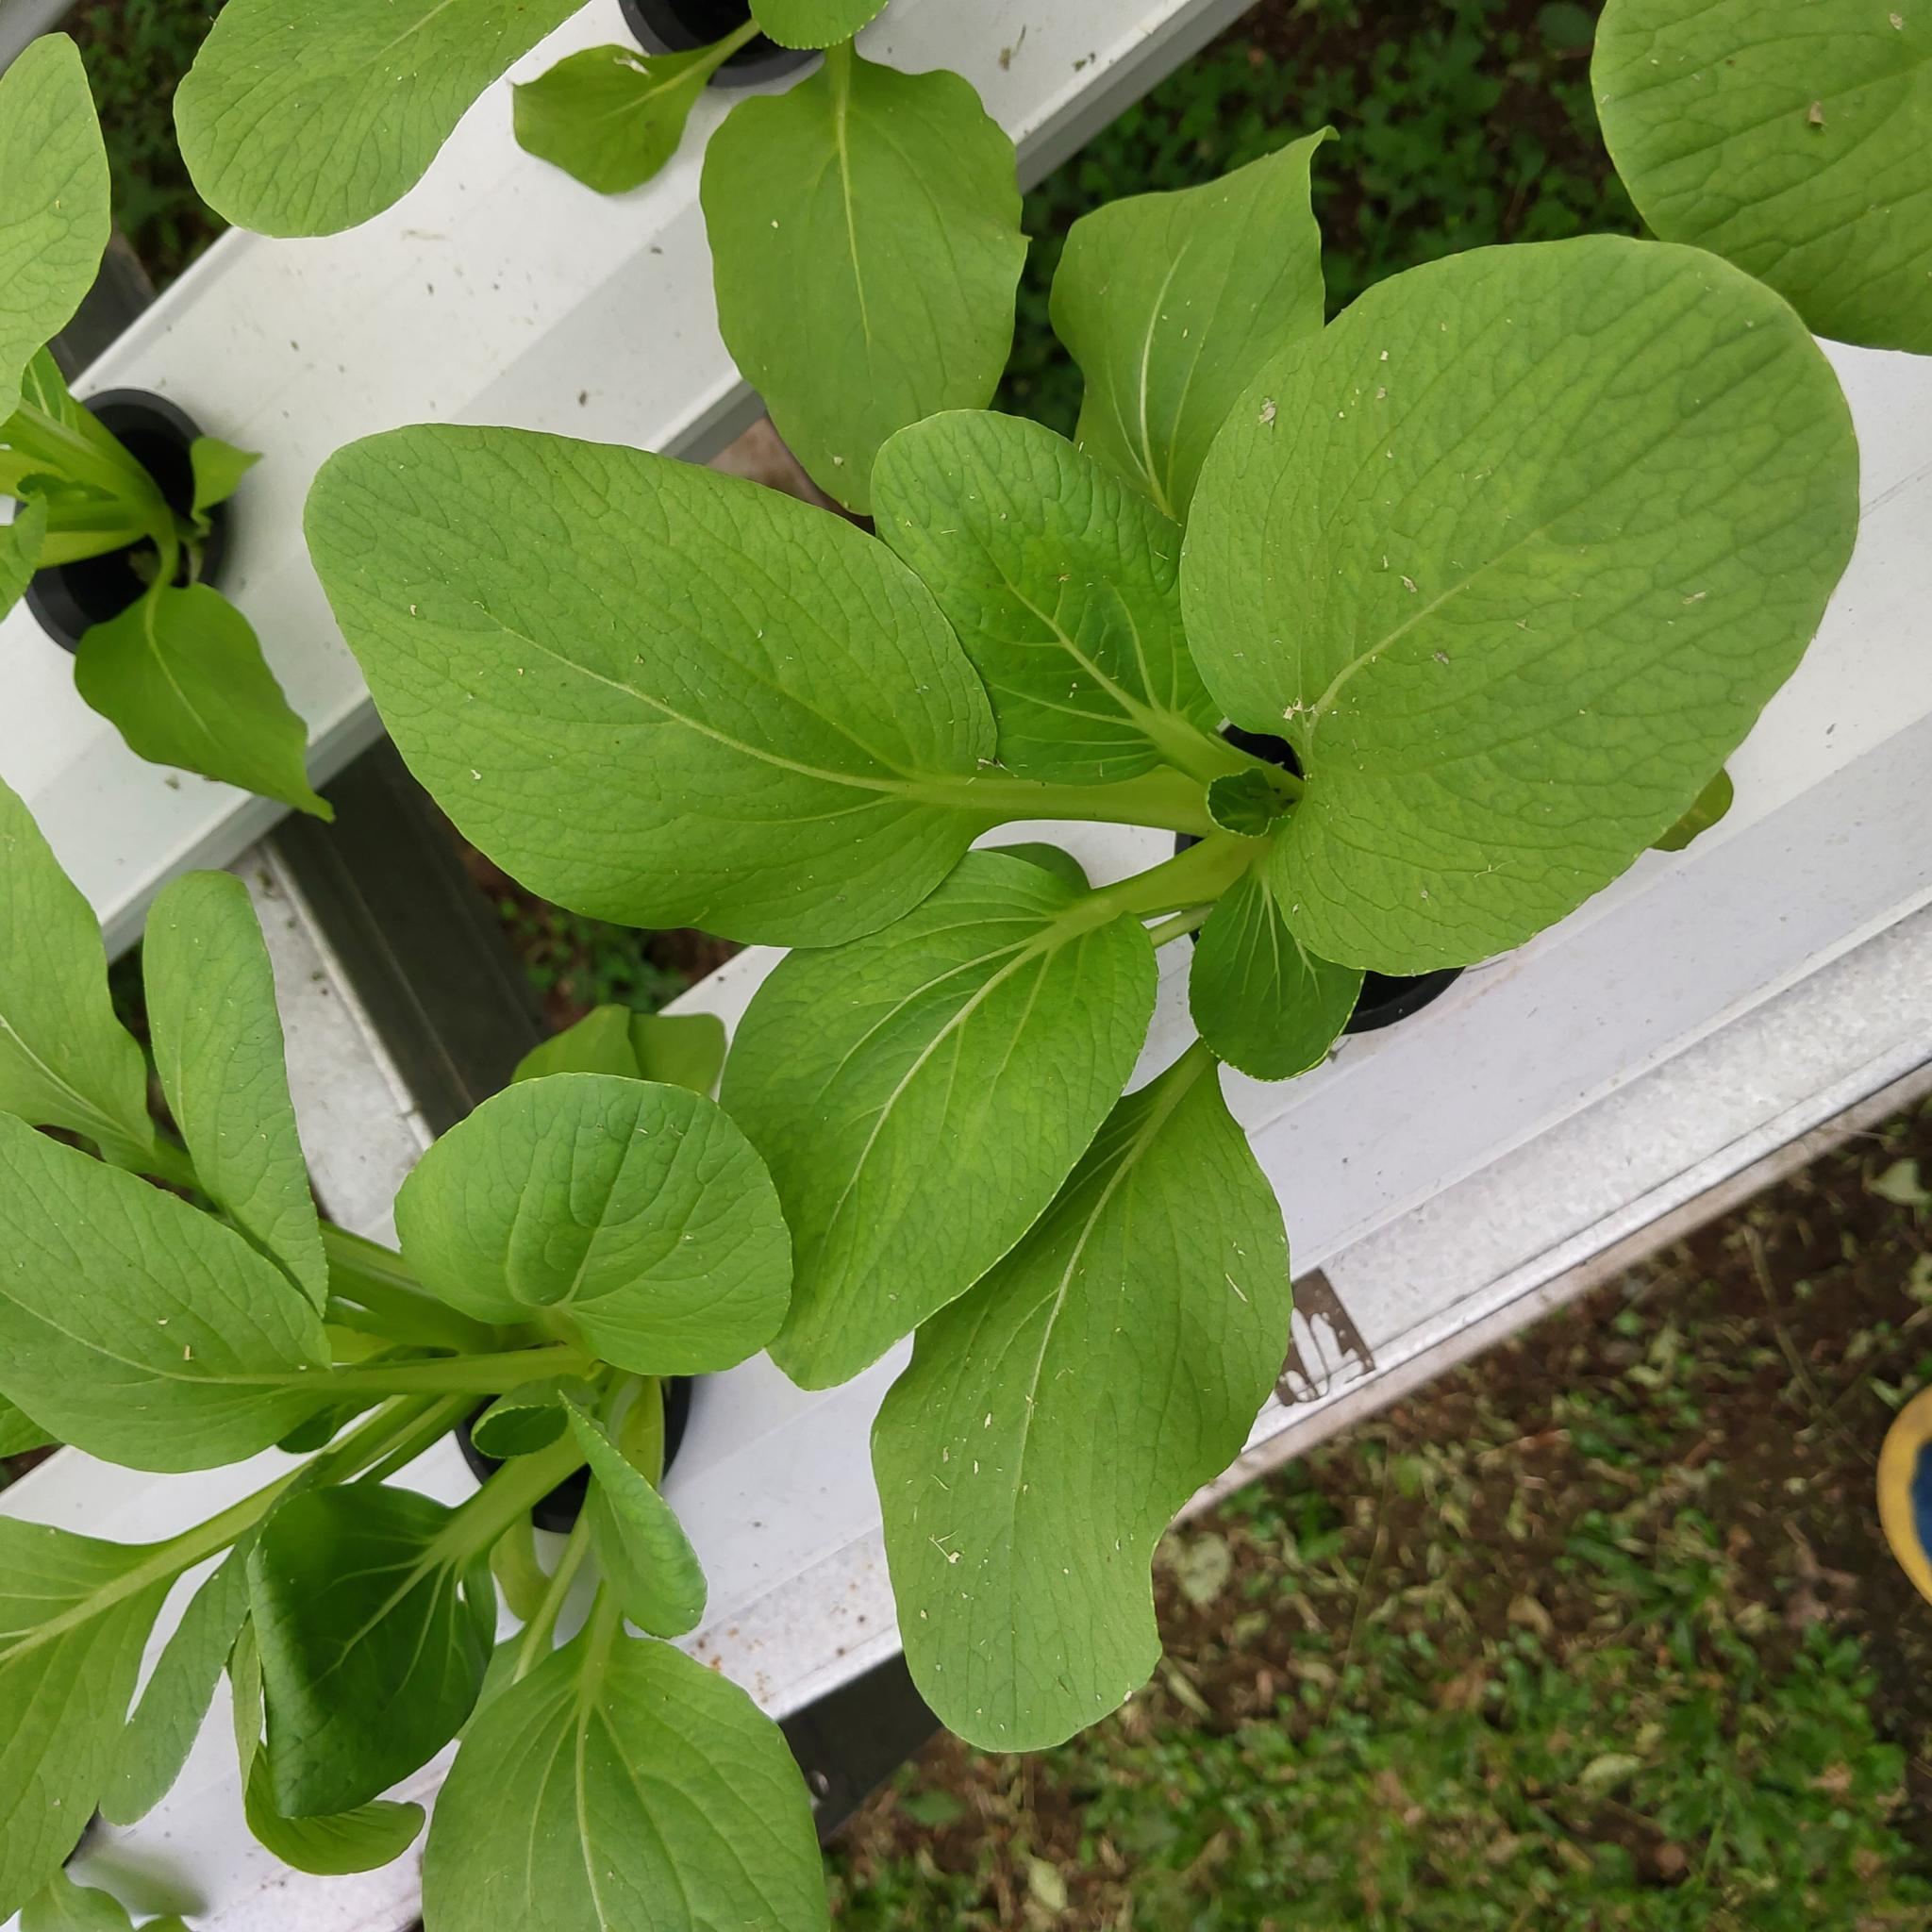Healthy-Pechay: (0, 14, 1663, 1907), (1162, 232, 1868, 971), (297, 418, 1026, 943), (1116, 7, 1624, 313), (713, 41, 1007, 531), (391, 1065, 801, 1376), (428, 1619, 828, 1930), (0, 1102, 336, 1472), (1596, 2, 1932, 363), (1060, 122, 1320, 557), (173, 4, 610, 241), (0, 1490, 260, 1874), (239, 1468, 504, 1828), (138, 867, 333, 1295), (73, 570, 340, 823), (0, 794, 154, 1148), (1302, 522, 1541, 748), (0, 25, 113, 460), (511, 14, 766, 193), (552, 1380, 713, 1645), (499, 878, 697, 998), (182, 437, 265, 520)
